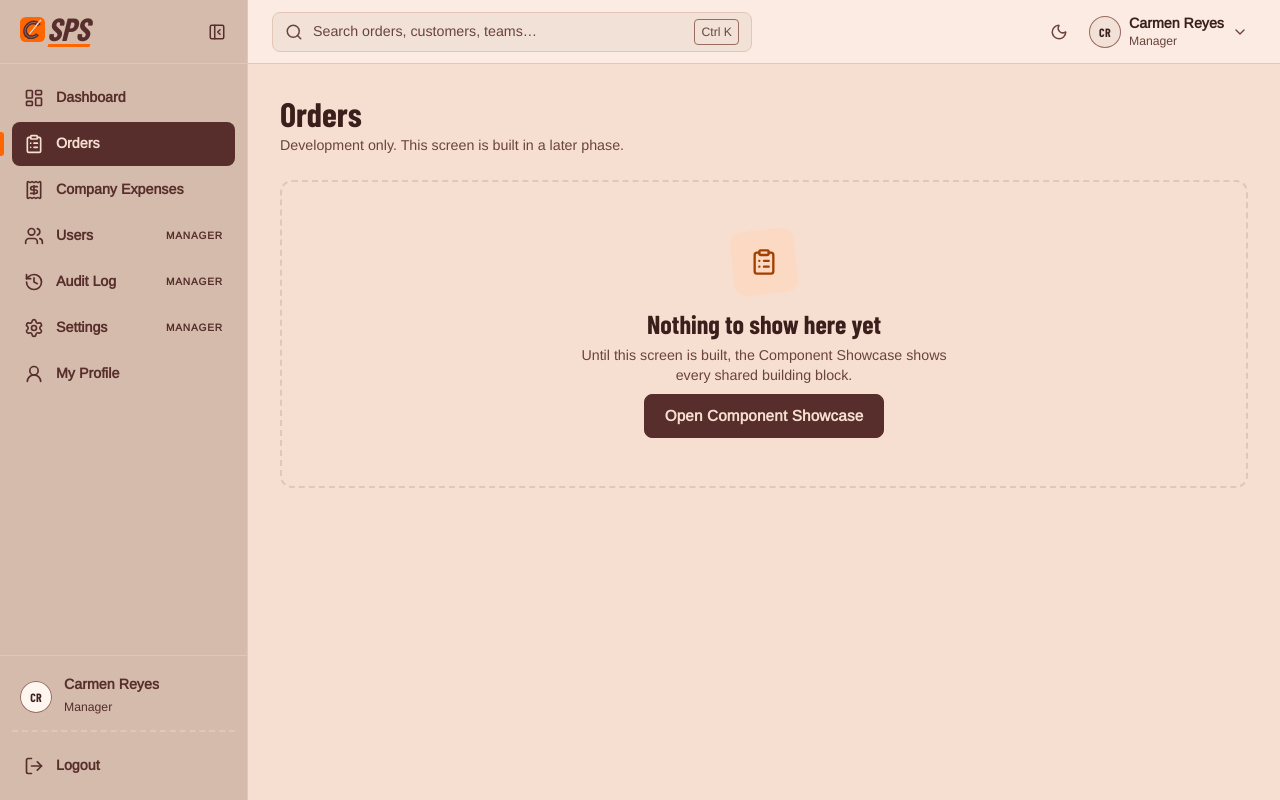
Test case: AdminLayout landmarks and keyboard (A11Y-01, A11Y-02) › a Logout that fails with a 500 keeps the person signed in on the same page with the danger toast
This screenshot has width=1280, height=800.
Check: the heading "Orders" is shown, box [280,93,362,134]
Click the button "Logout" at (124, 766), box [12,744,235,788]
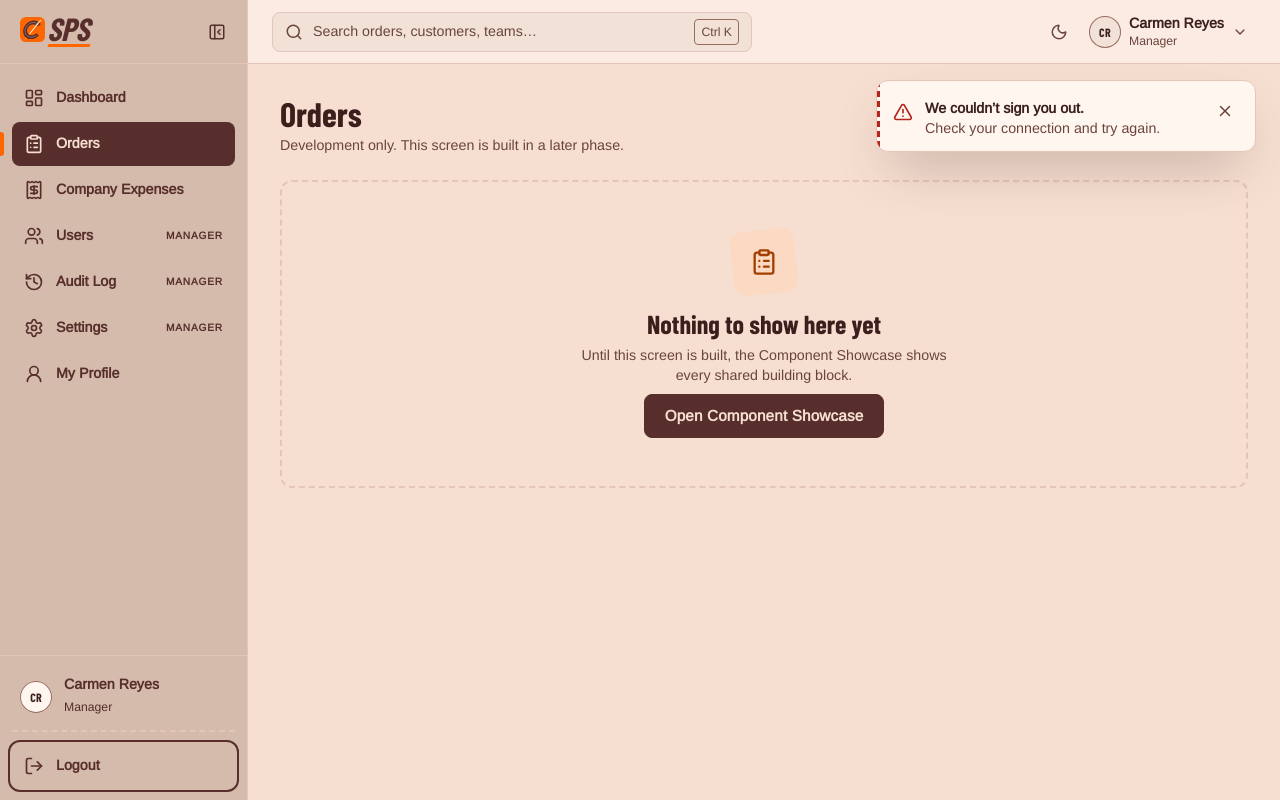
Check: the text "We couldn’t sign you out." is shown, box [925,101,1084,116]
Check: the text "Check your connection and try again." is shown, box [925,119,1195,139]
